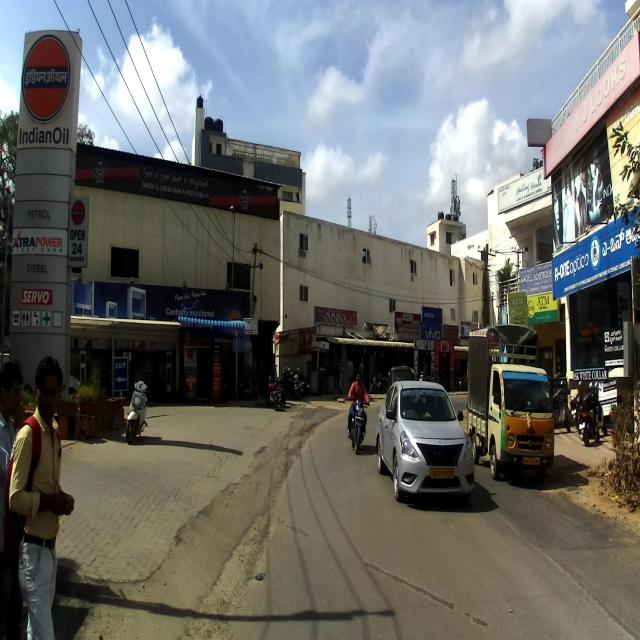Car_Nissan: (376, 377, 474, 508)
motorcycle: (348, 388, 368, 452)
scooter: (124, 377, 152, 444)
truck: (468, 324, 554, 481)
